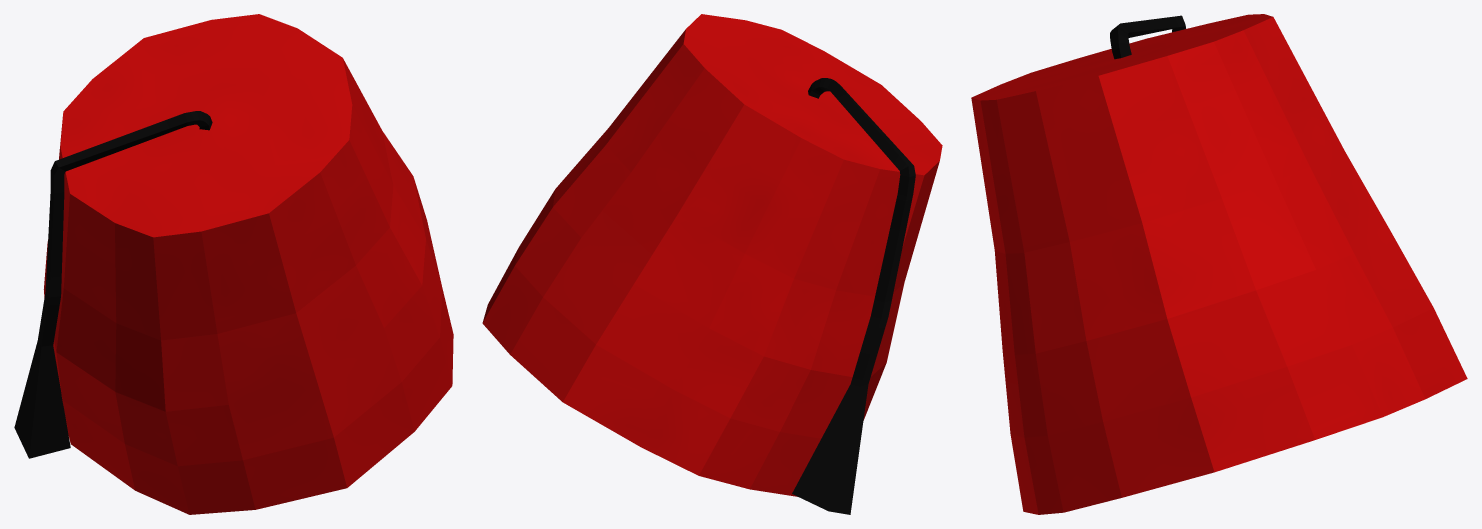
File: fez.fbx
3 renders of one model, left to right at view 1: azimuth 30°, elevation 25°; view 2: azimuth 150°, elevation 25°; view 3: azimuth 270°, elevation 25°, orthographic. The views are drawn at different scales.
Parts seen in each view (by area): view 1: fez; view 2: fez; view 3: fez.
Boxes of the visible parts, x1,y1,x2,y2 form: fez: (14,14,453,514); fez: (482,14,942,514); fez: (971,14,1467,514).
Bounding box in the file's own units: 14.07 × 14.72 × 13.35.
